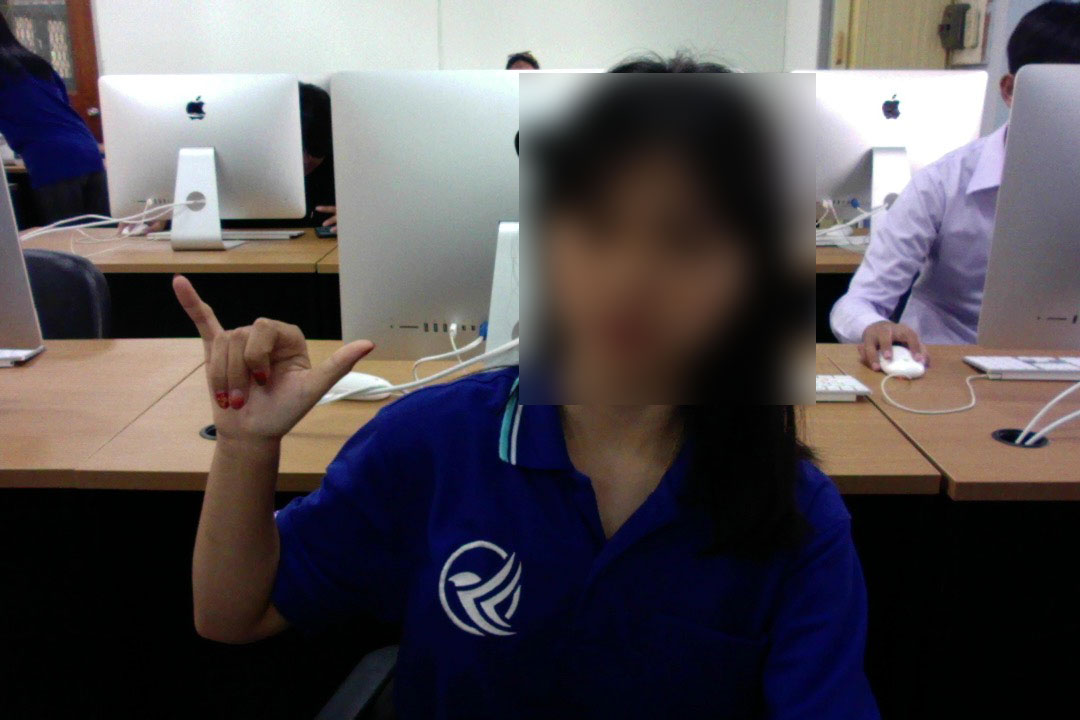yor: (167, 268, 374, 461)
